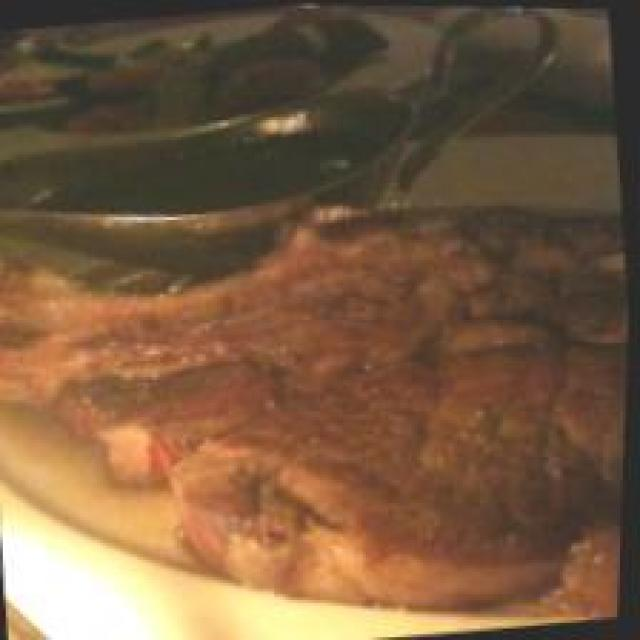Rib: (0, 177, 634, 640)
